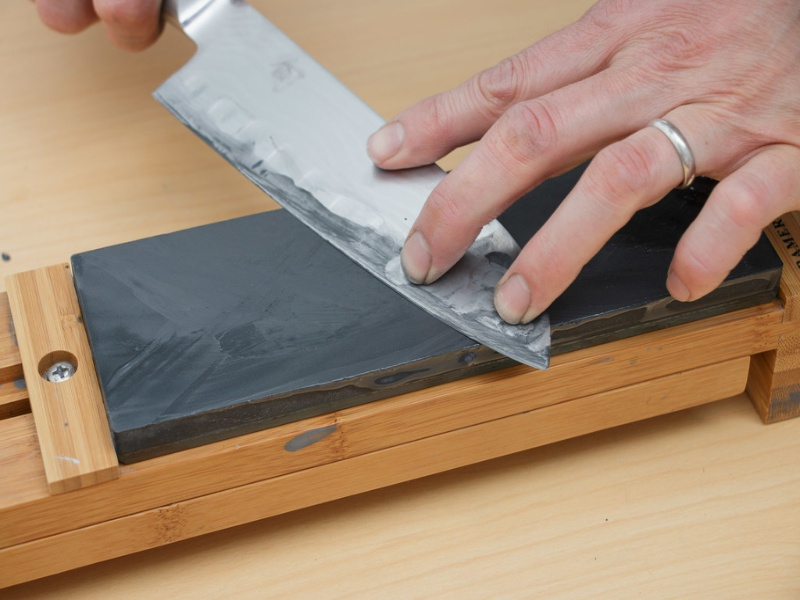knife: (142, 1, 563, 378)
